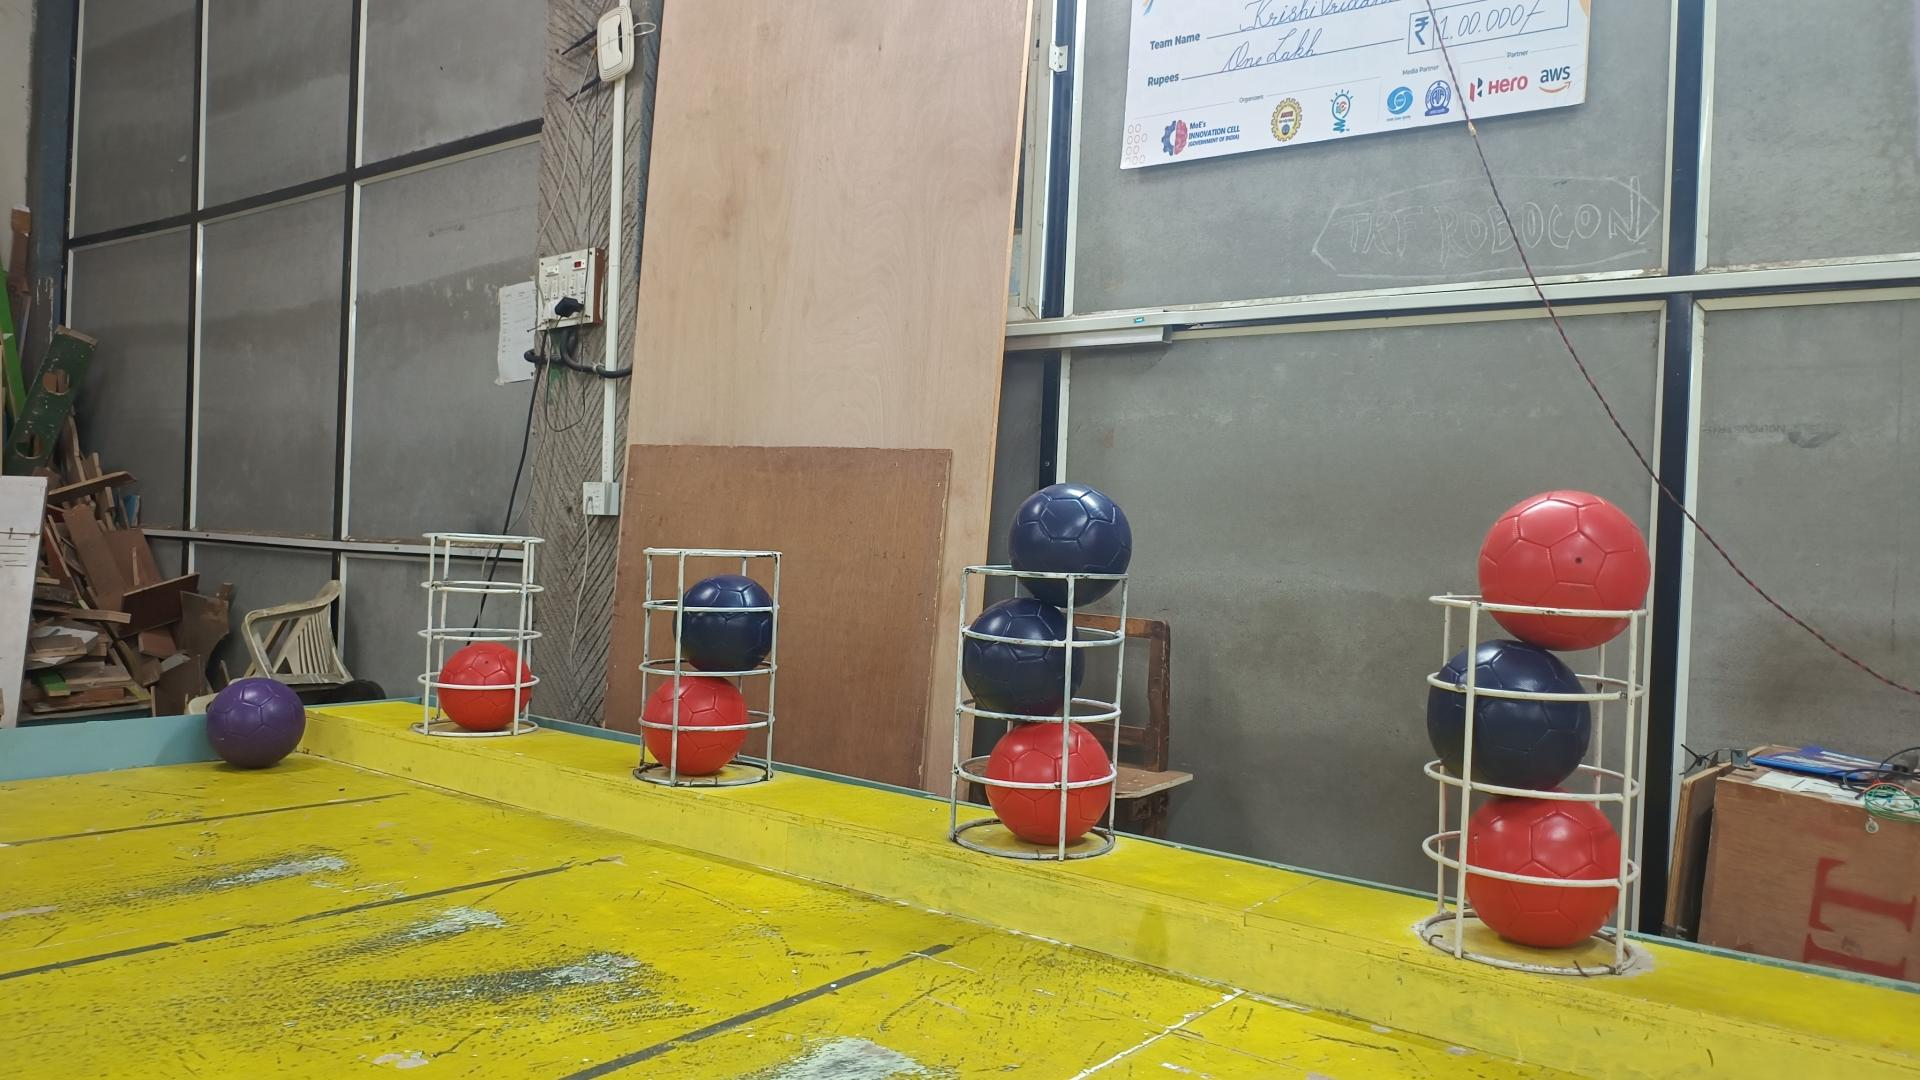dhoka: (1425, 637, 1590, 791), (1009, 484, 1133, 608), (960, 596, 1084, 716), (671, 575, 777, 673)
laale: (1477, 492, 1650, 653), (1466, 795, 1619, 948), (986, 720, 1114, 848), (641, 675, 750, 777), (439, 641, 533, 732)
